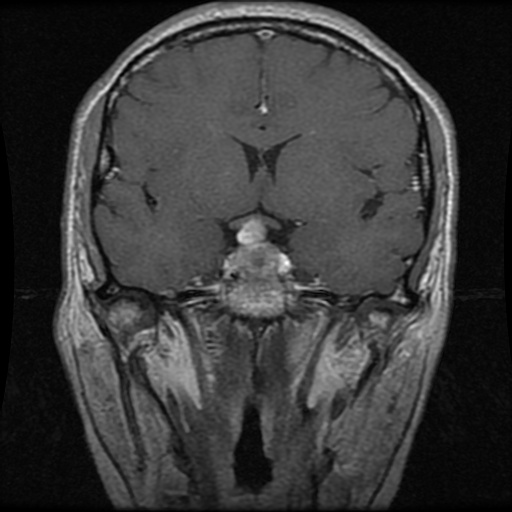pituitary: (227, 218, 291, 282)
